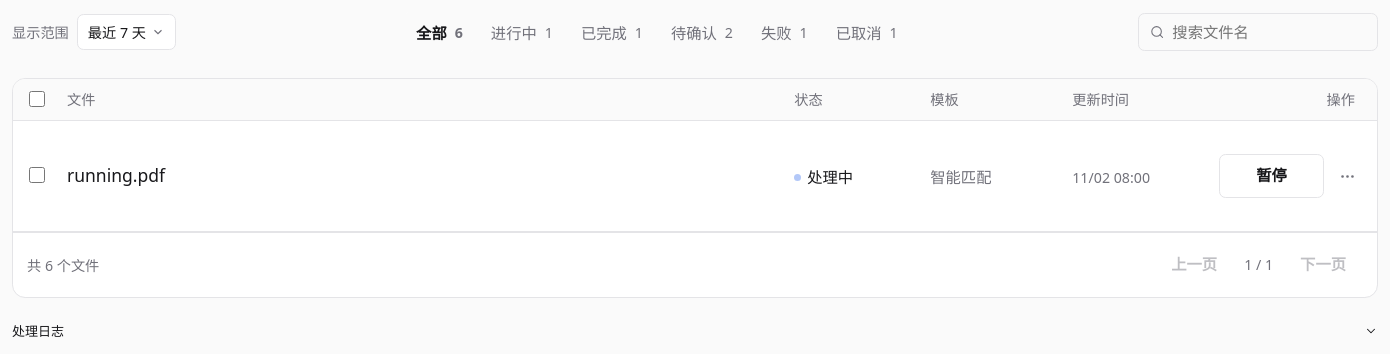
TaskQueuePage list workspace › uses the approved filter order and one mutually exclusive classification
This screenshot has width=1390, height=354.
Click the button "已完成 1" at (612, 32), box [569,12,655,52]
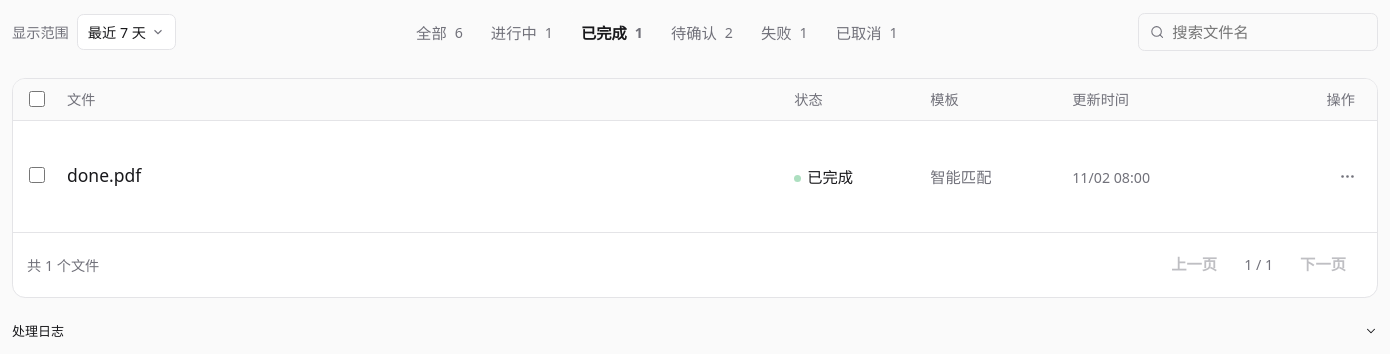
Expected: the text "copy.pdf" is not shown
Expected: the text "done.pdf" is shown, [67,163,141,187]
Click the button "待确认 2" at (702, 32), box [659,12,745,52]
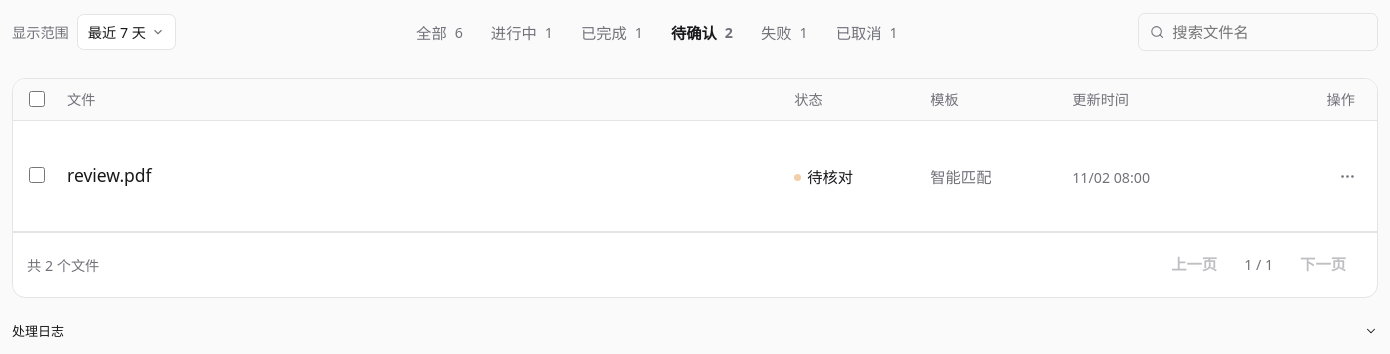
Expected: the text "done.pdf" is gone
Expected: the text "review.pdf" is shown, [67,163,152,187]
